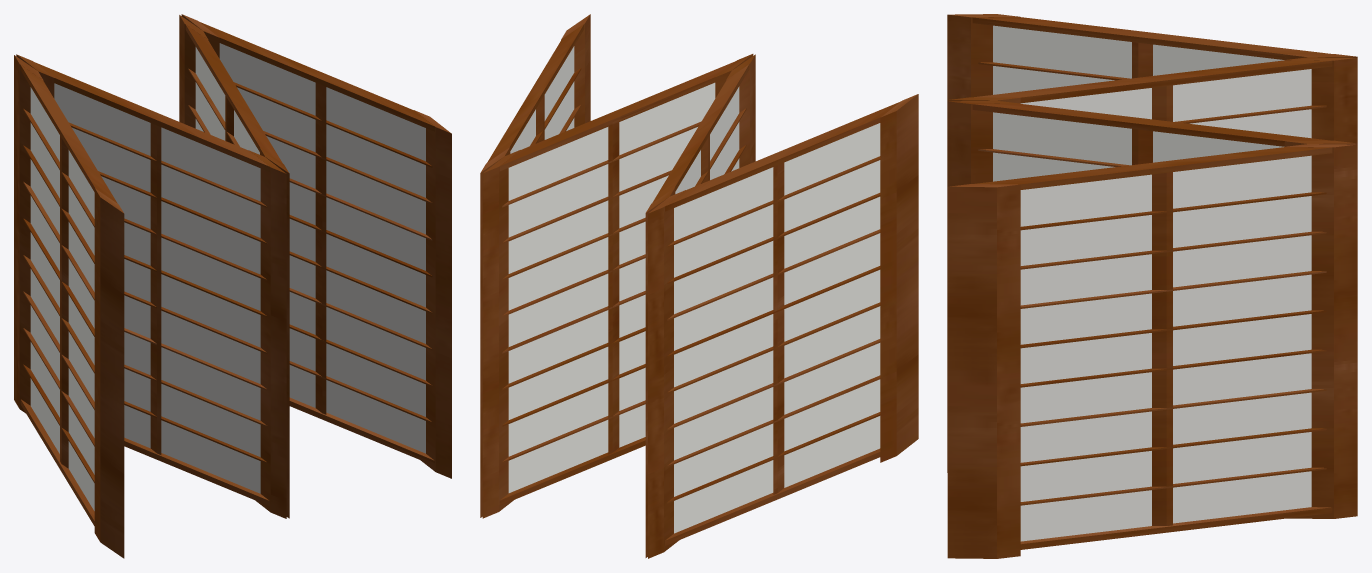
File: sh-scopia-japanese-style-screen.glb
3 views of the same model, side by side, from view 1: azimuth 30°, elevation 25°; view 2: azimuth 150°, elevation 25°; view 3: azimuth 270°, elevation 25° (orthographic). The views are drawn at different scales.
Parts seen in each view (by area): view 1: paper.003_Cube.017, wood.003_Cube.018; view 2: paper.003_Cube.017, wood.003_Cube.018; view 3: paper.003_Cube.017, wood.003_Cube.018.
Boxes of the visible parts, <box> form: paper.003_Cube.017: <box>30,43,425,510</box>; wood.003_Cube.018: <box>14,14,451,558</box>; paper.003_Cube.017: <box>508,46,880,533</box>; wood.003_Cube.018: <box>480,14,918,558</box>; paper.003_Cube.017: <box>993,25,1311,541</box>; wood.003_Cube.018: <box>947,14,1357,558</box>.
Bounding box in the file's own units: 1 × 1 × 1.
Materials: 2 (1 with a texture image).
